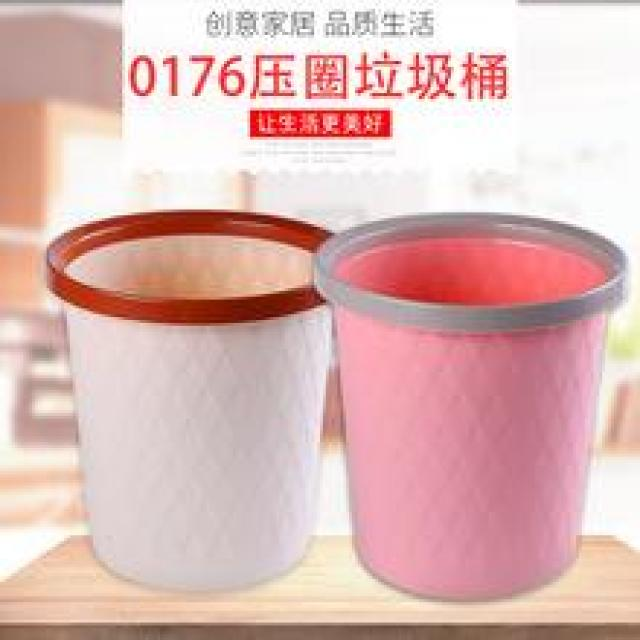dustbin: (314, 205, 634, 608), (37, 198, 343, 601)
